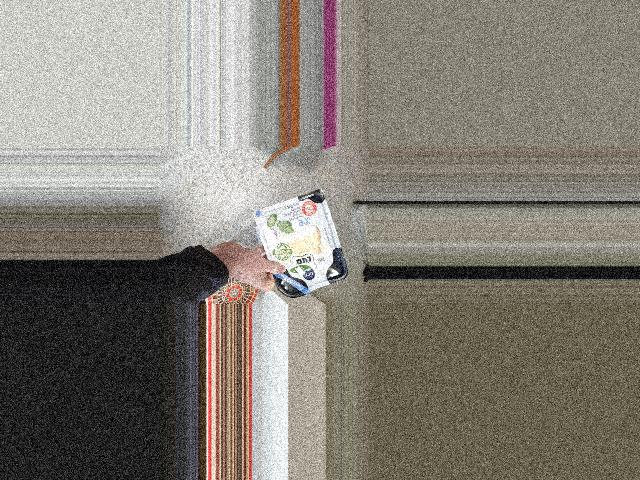cheese: (267, 201, 335, 288)
